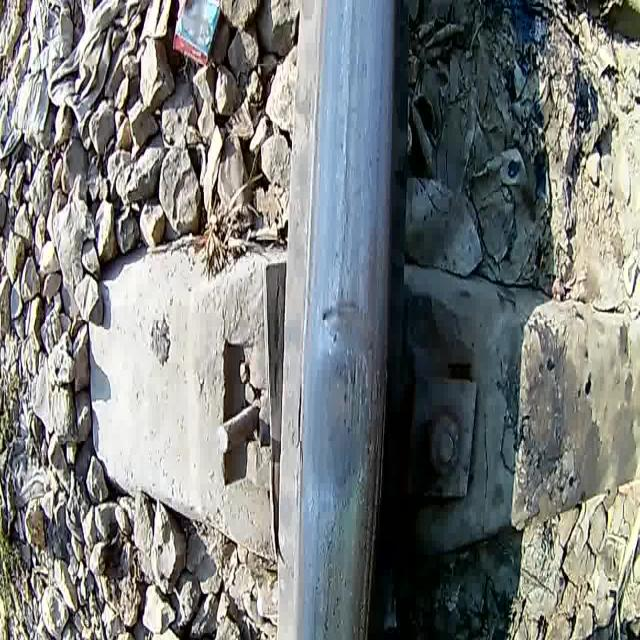Squats: (261, 0, 413, 640)
